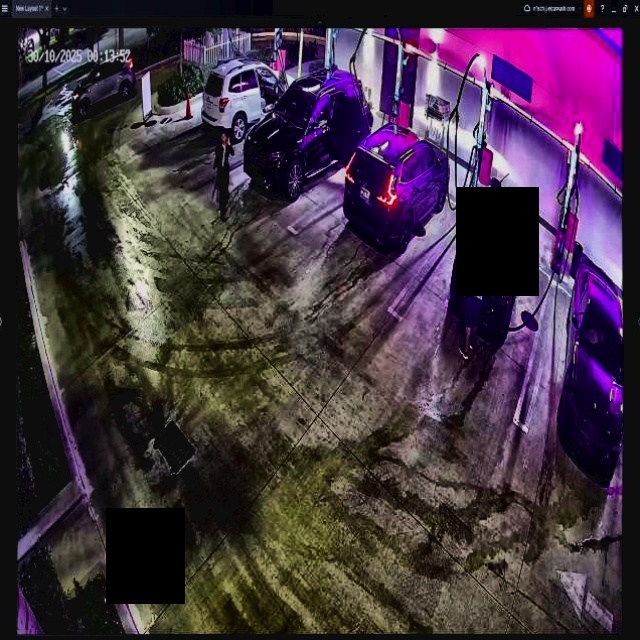Car: (241, 71, 372, 198), (342, 119, 450, 245), (451, 191, 527, 344)
